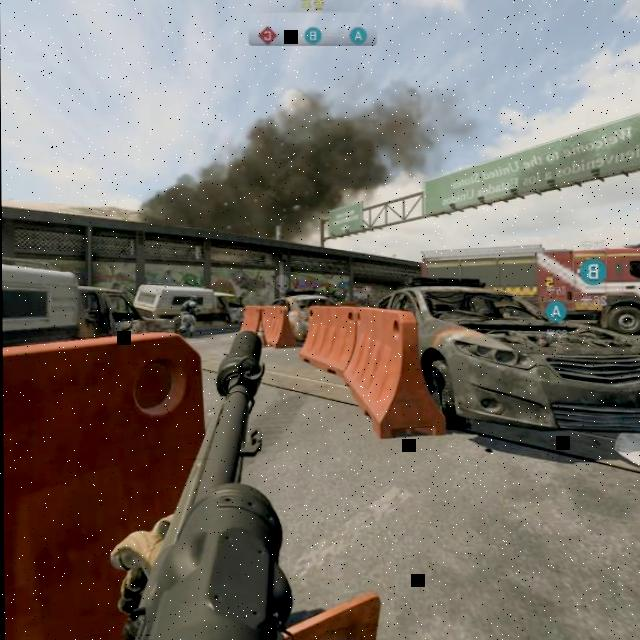MW2_body: (177, 296, 201, 338)
